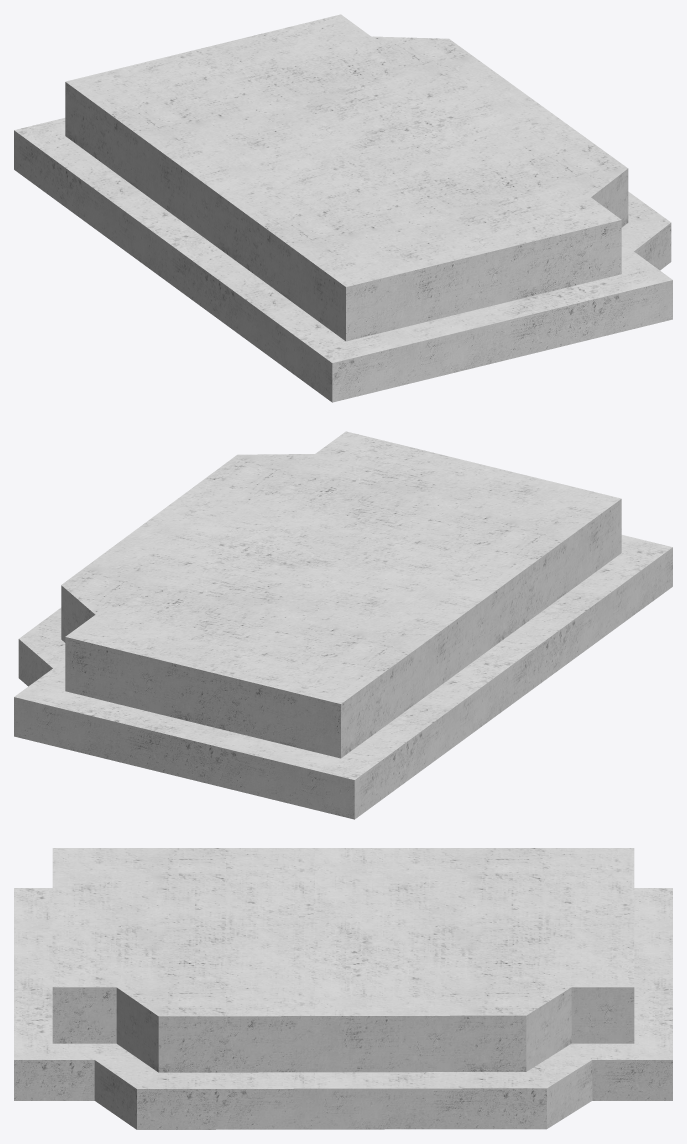
Rendered from tahla_statue_stand.glb.
The picture shows the model from 3 angles, top to bottom: view 1: azimuth 30°, elevation 25°; view 2: azimuth 150°, elevation 25°; view 3: azimuth 270°, elevation 25°; orthographic projection. The views are drawn at different scales.
Parts seen in each view (by area): view 1: Material2 (×2); view 2: Material2 (×2); view 3: Material2 (×2).
Part boxes in pixels (box(x1,y1,x2,y2)): Material2 (×2): box(14, 14, 672, 402); Material2 (×2): box(14, 431, 672, 819); Material2 (×2): box(14, 848, 672, 1129).
Bounding box in the file's own units: 98.01 × 22.06 × 136.
Materials: 2 (1 with a texture image).
